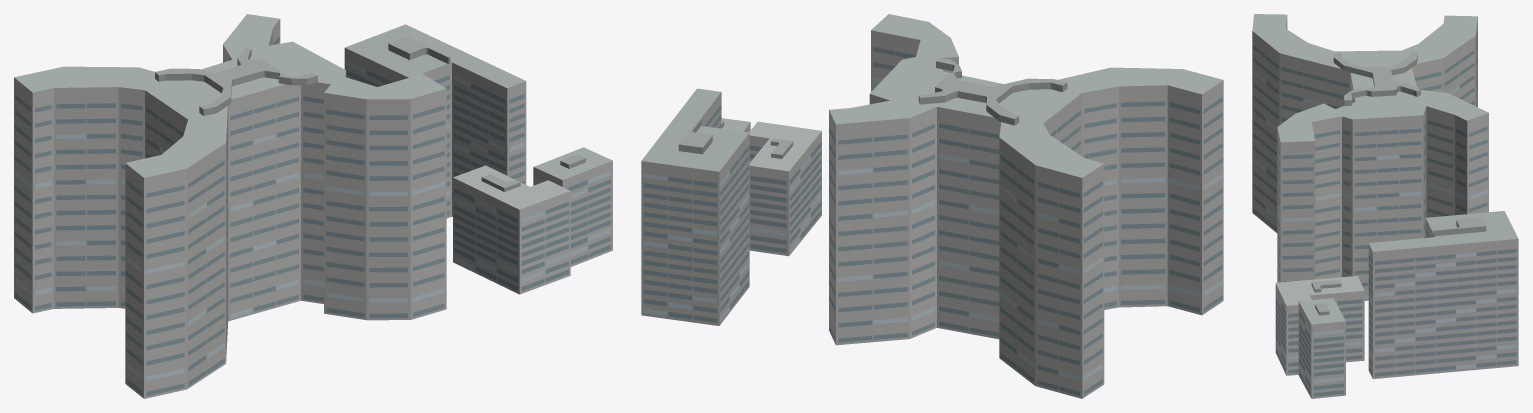
File: apt-a13782803.glb
The picture shows the model from 3 angles, left to right: view 1: azimuth 30°, elevation 25°; view 2: azimuth 150°, elevation 25°; view 3: azimuth 270°, elevation 25°; orthographic projection. The views are drawn at different scales.
Visible parts, largest first — view 1: apt-a13782803; view 2: apt-a13782803; view 3: apt-a13782803.
Boxes of the visible parts, x1,y1,x2,y2 form: apt-a13782803: (14, 14, 612, 398); apt-a13782803: (641, 14, 1223, 398); apt-a13782803: (1252, 14, 1518, 398).
Bounding box in the file's own units: 190 × 82 × 105.
